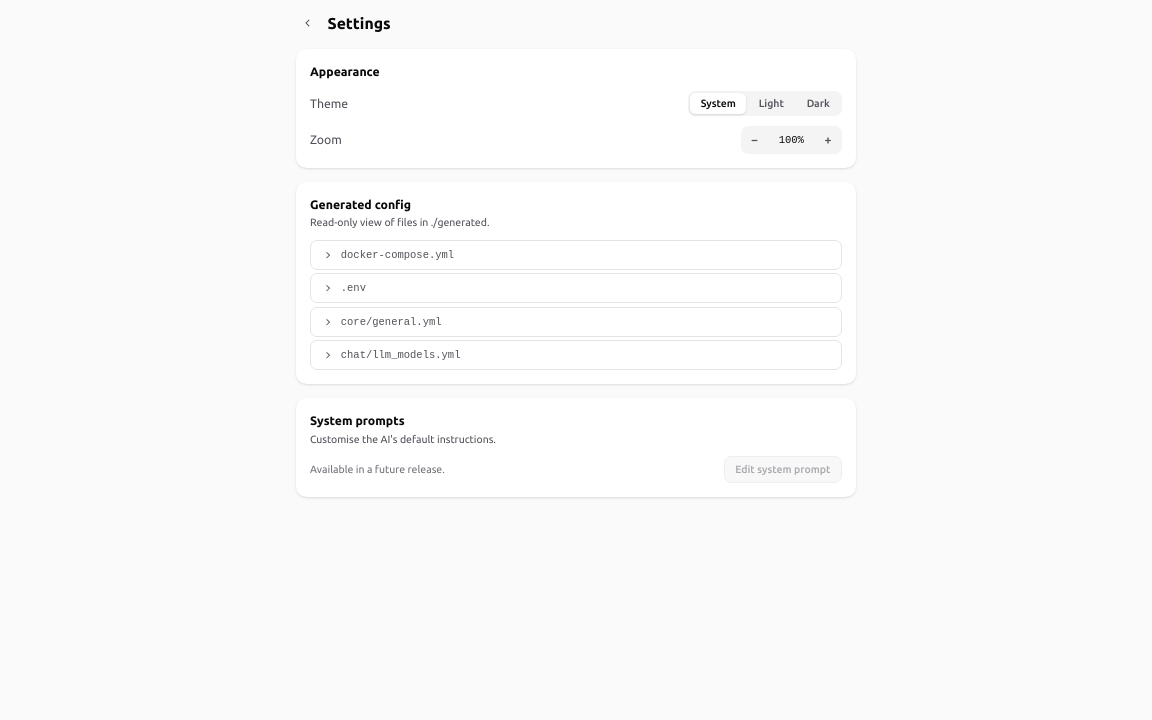
Scenario: settings/+page.svelte › copy success shows a success toast
What coordinates should you click on to do the following:
click the button with test id "toggle-.env"
I would click on:
 (328, 288)
Its box is x1=311 y1=274 x2=841 y2=302.
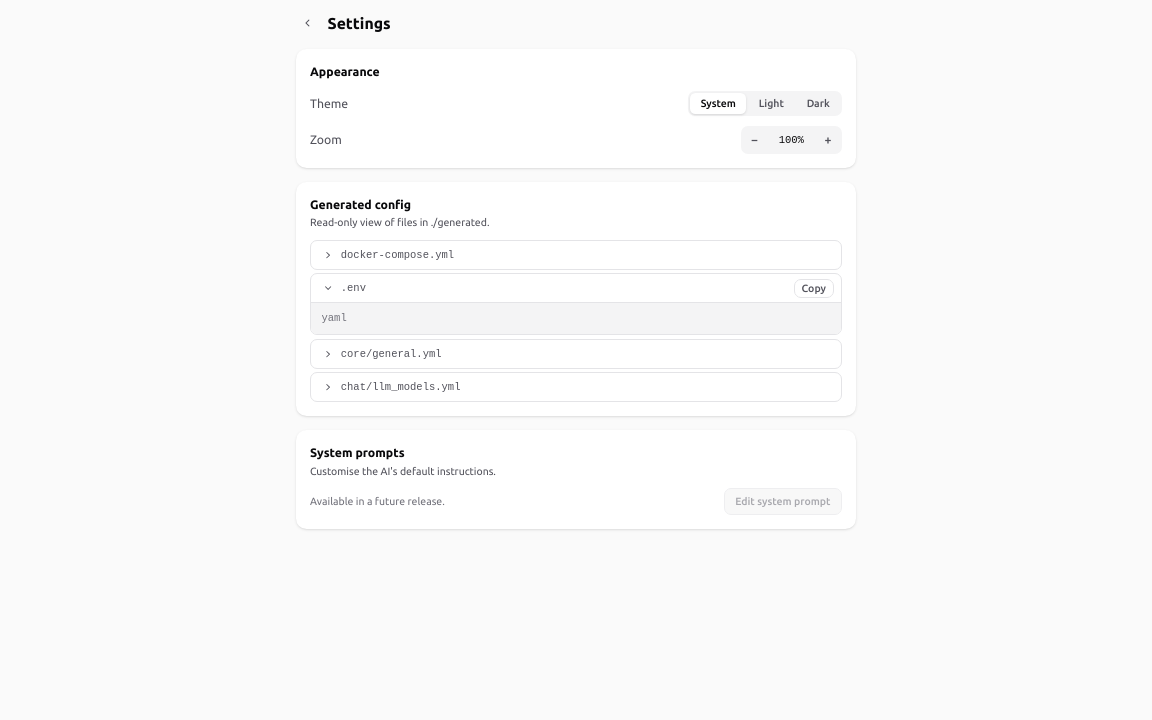
Expected: the button with test id "copy-.env" is shown
What coordinates should you click on to do the following:
click the button with test id "copy-.env"
I would click on:
 (814, 288)
Its box is x1=794 y1=278 x2=834 y2=298.
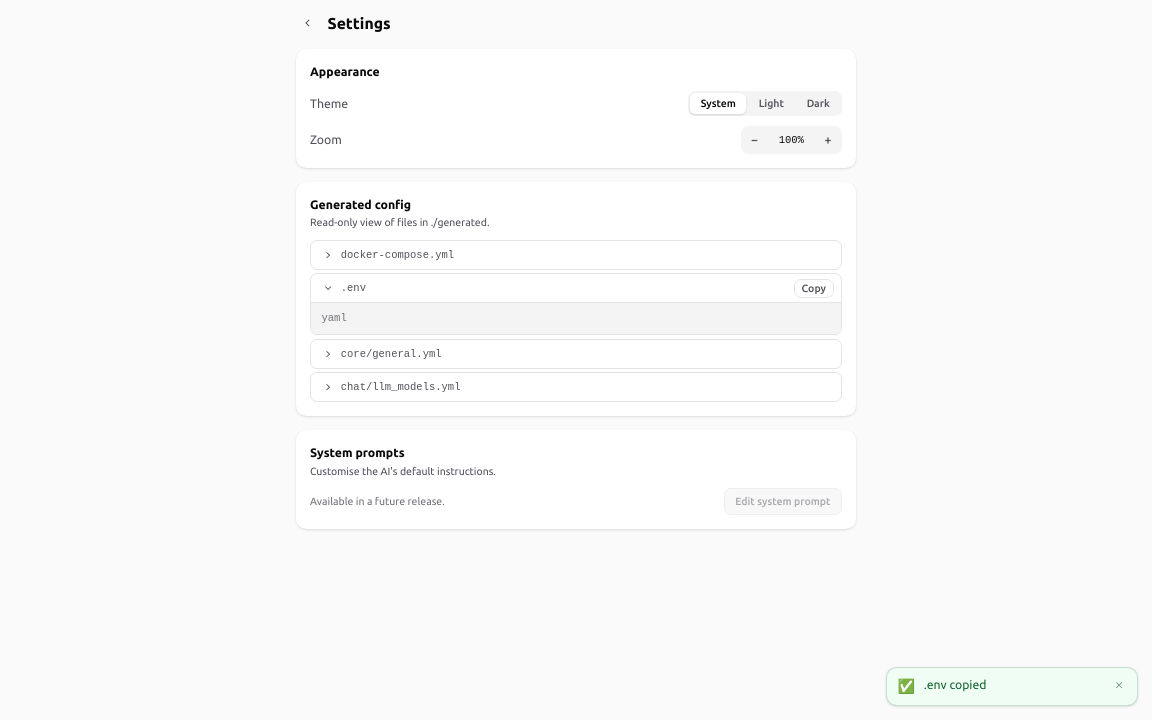
Expected: the message "✅ .env copied" is shown, x1=886 y1=667 x2=1138 y2=706
